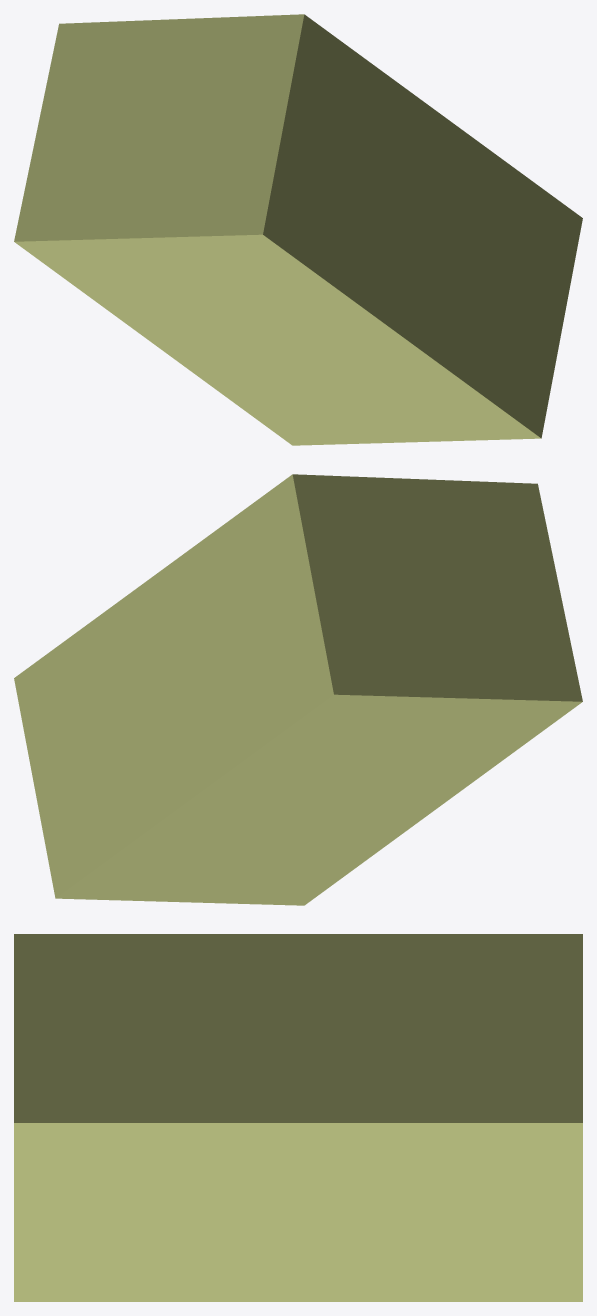
The picture shows the model from 3 angles, top to bottom: view 1: azimuth 30°, elevation 25°; view 2: azimuth 150°, elevation 25°; view 3: azimuth 270°, elevation 25°; orthographic projection. The views are drawn at different scales.
Visible parts, largest first — view 1: 0_1_2_0_3_3_2_0_1_1_1_1; view 2: 0_1_2_0_3_3_2_0_1_1_1_1; view 3: 0_1_2_0_3_3_2_0_1_1_1_1.
Part boxes in pixels (bbox=[...]): 0_1_2_0_3_3_2_0_1_1_1_1: bbox=[14, 14, 582, 445]; 0_1_2_0_3_3_2_0_1_1_1_1: bbox=[14, 474, 582, 905]; 0_1_2_0_3_3_2_0_1_1_1_1: bbox=[14, 934, 582, 1301].
Bounding box in the file's own units: 3.61 × 3.1 × 6.
